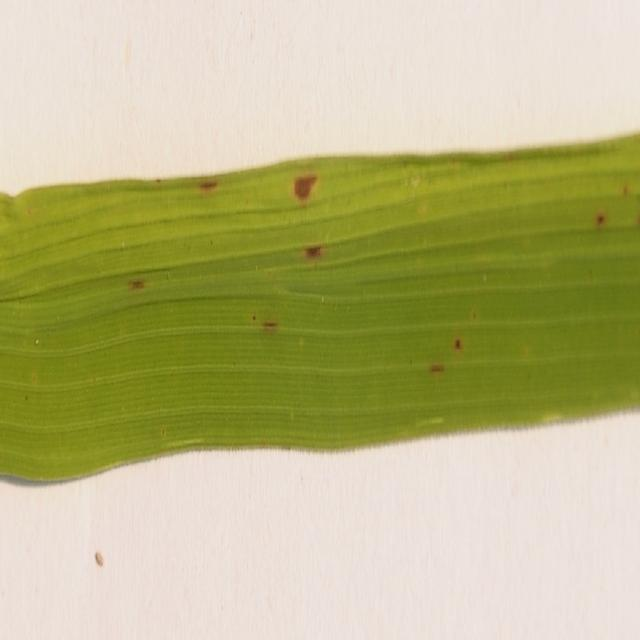Unhealthy: (291, 168, 320, 207), (302, 242, 325, 263), (126, 276, 147, 291), (200, 181, 219, 197), (453, 330, 463, 357), (432, 361, 447, 378), (262, 317, 278, 331), (596, 212, 607, 227), (252, 310, 257, 324), (35, 338, 41, 348), (161, 426, 165, 440), (624, 187, 628, 197), (472, 312, 476, 320), (32, 374, 35, 383)
